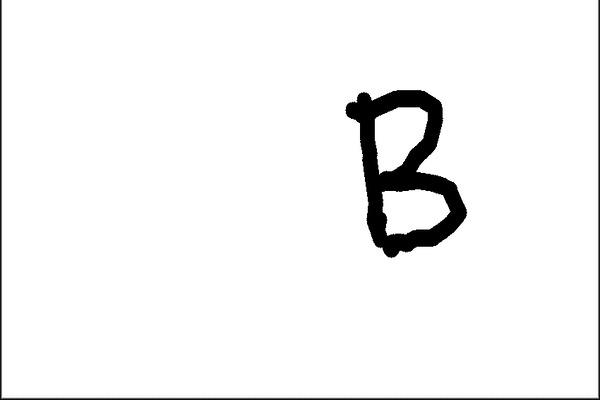B: (336, 78, 475, 262)
